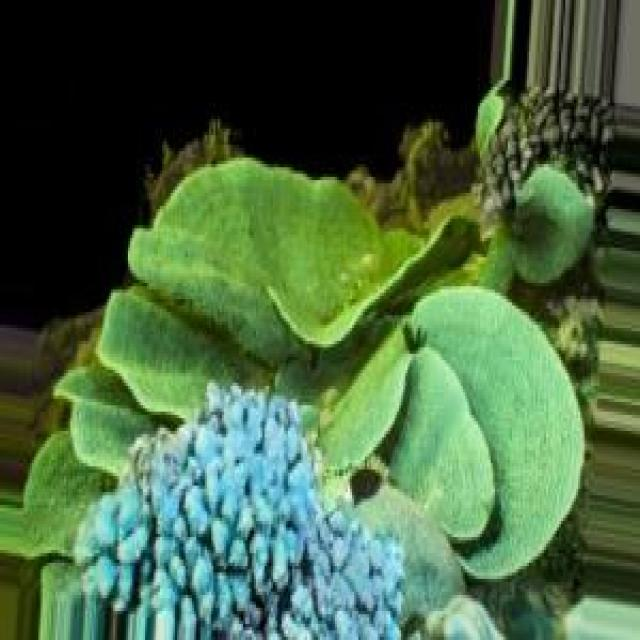Healthy: (14, 159, 594, 640), (76, 387, 404, 640)
